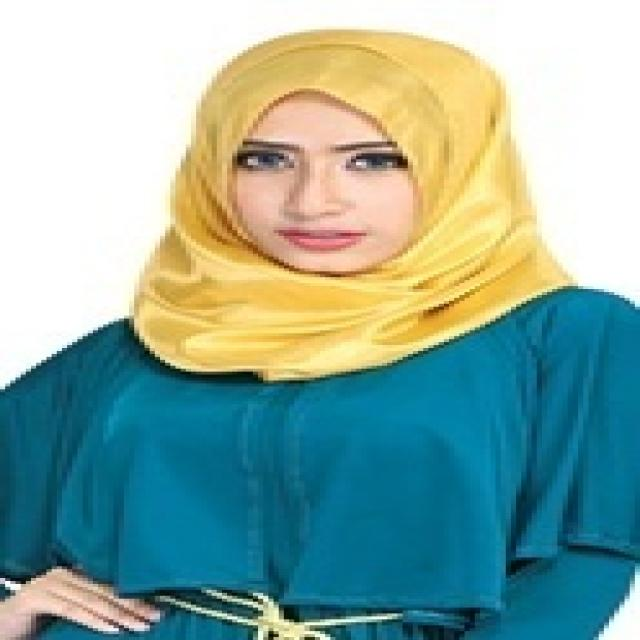head: (176, 26, 513, 286)
